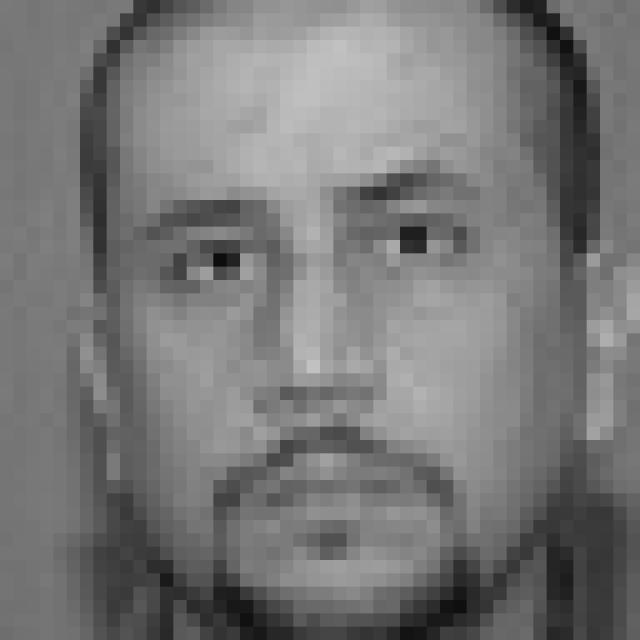neutral: (142, 160, 492, 542)
